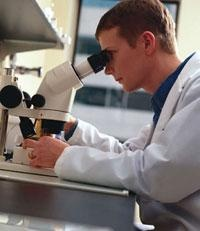person without safety: (28, 1, 200, 175)
